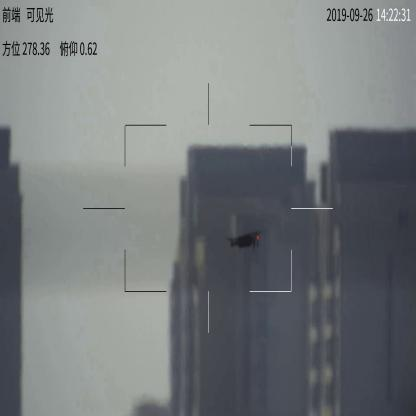uav: (227, 229, 266, 251)
